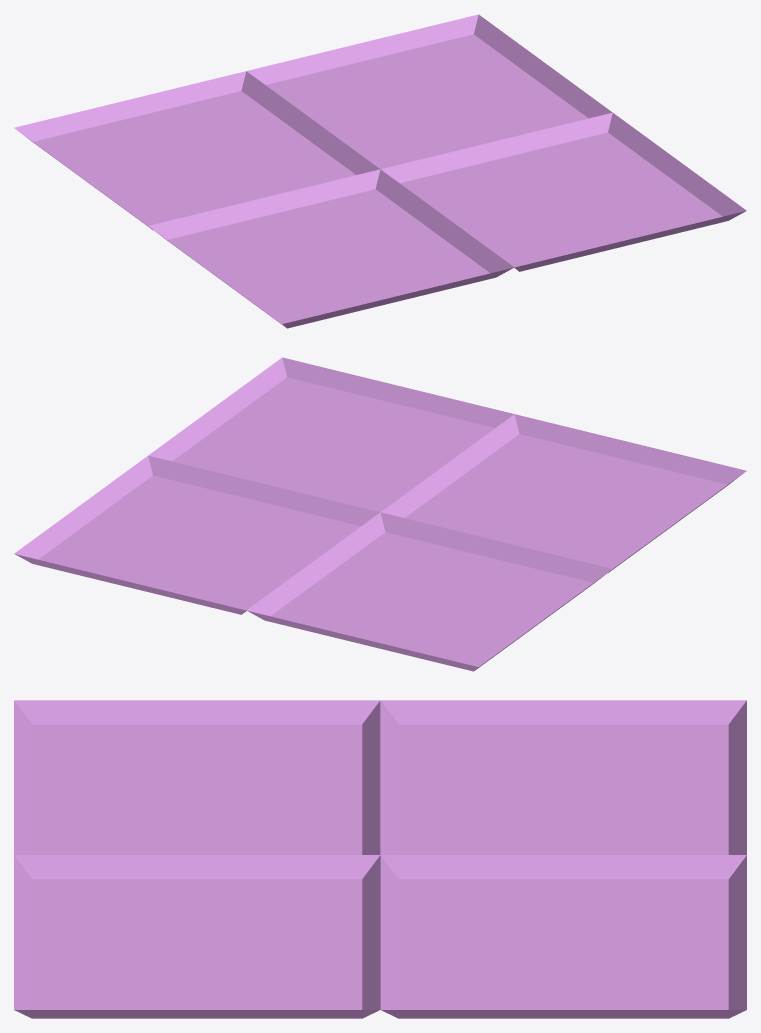
Rendered from celling.glb.
3 views of the same model, one above another, from view 1: azimuth 30°, elevation 25°; view 2: azimuth 150°, elevation 25°; view 3: azimuth 270°, elevation 25° (orthographic). The views are drawn at different scales.
Parts seen in each view (by area): view 1: Celling_tile; view 2: Celling_tile; view 3: Celling_tile.
Part boxes in pixels (<box>): Celling_tile: <box>14,14,746,328</box>; Celling_tile: <box>14,357,746,671</box>; Celling_tile: <box>14,700,746,1018</box>.
Size of the model in its own units: 2 by 0.05 by 2.
